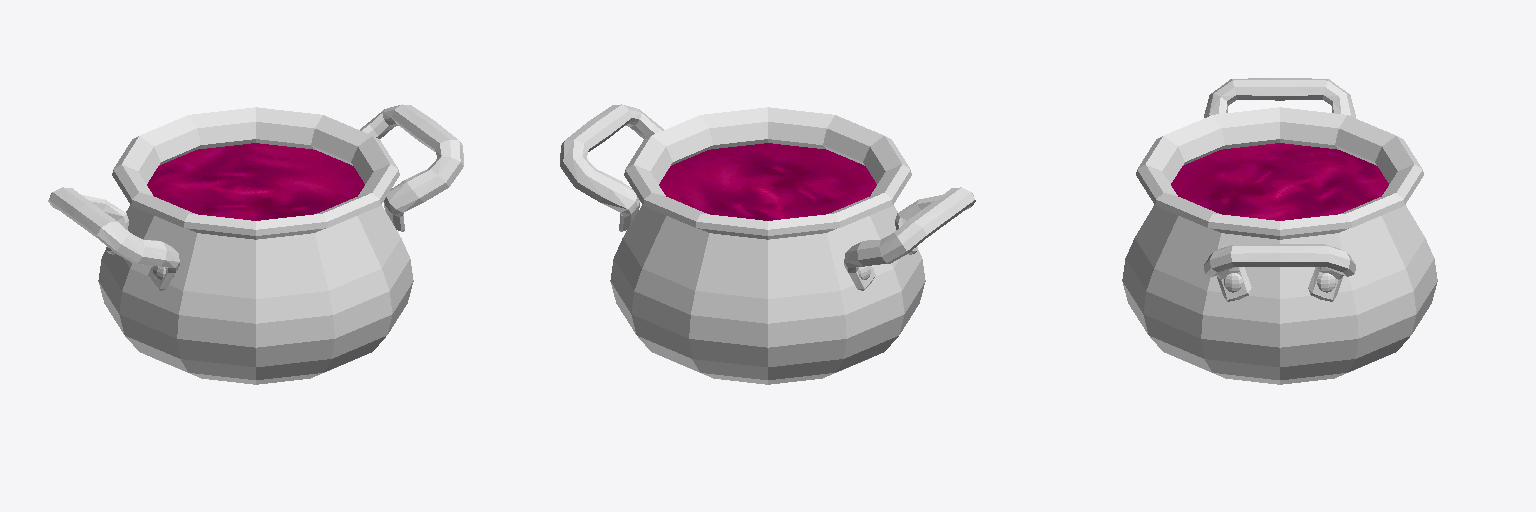
3 renders of one model, left to right at view 1: azimuth 30°, elevation 25°; view 2: azimuth 150°, elevation 25°; view 3: azimuth 270°, elevation 25°, orthographic.
Visible parts, largest first — view 1: polygon2, topoDaSopa, polygon3; view 2: polygon2, topoDaSopa, polygon3; view 3: polygon2, topoDaSopa, polygon3, polygon4.
Part boxes in pixels (left/top/right/bottom): polygon2: left=98, top=107, right=413, bottom=384; topoDaSopa: left=147, top=143, right=364, bottom=220; polygon3: left=48, top=104, right=463, bottom=290; polygon2: left=610, top=107, right=925, bottom=384; topoDaSopa: left=659, top=143, right=876, bottom=220; polygon3: left=560, top=104, right=975, bottom=290; polygon2: left=1122, top=107, right=1437, bottom=384; topoDaSopa: left=1171, top=143, right=1388, bottom=220; polygon3: left=1204, top=78, right=1355, bottom=301; polygon4: left=1224, top=273, right=1335, bottom=292.
Size of the model in its own units: 1.71 by 0.8305 by 1.27.
4 materials, 1 textured.